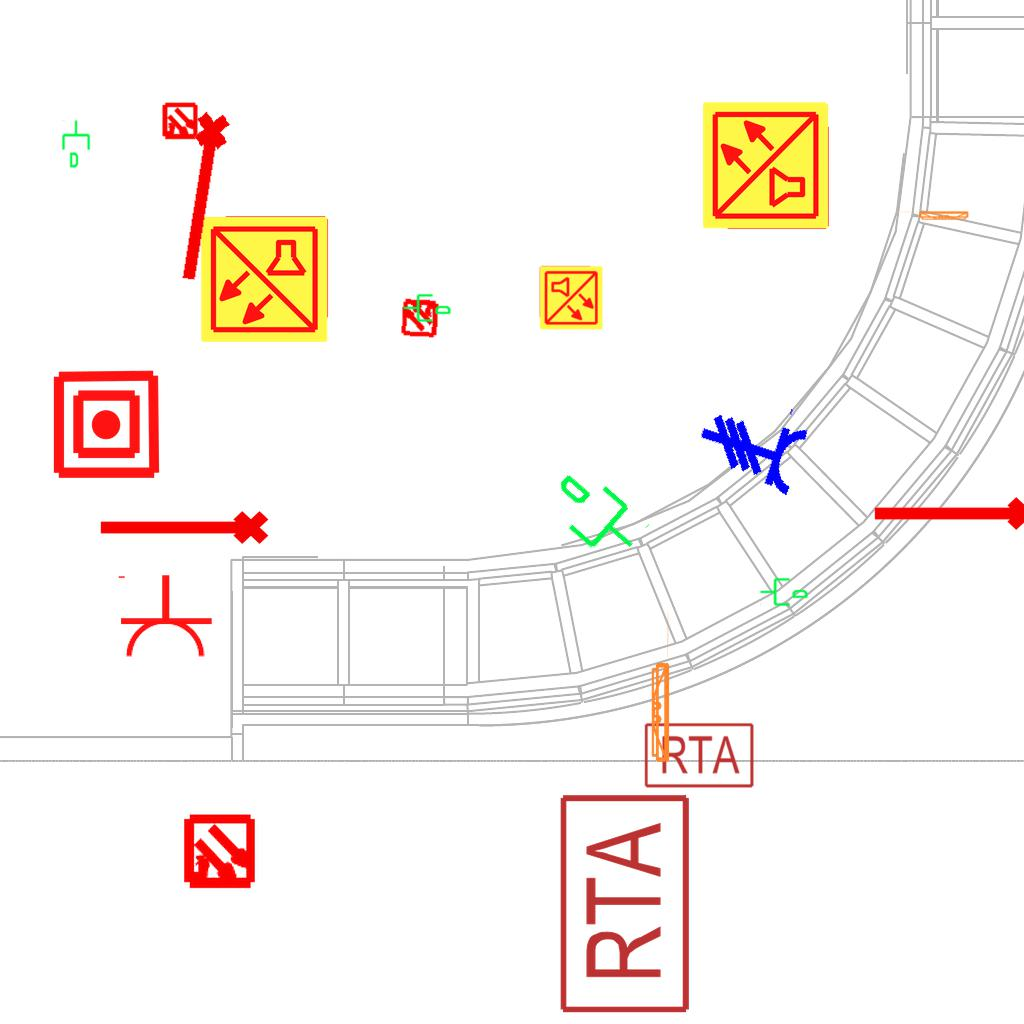ASR_Ansaugoeffnung: (167, 107, 241, 289), (95, 507, 271, 553), (869, 493, 1024, 539)
CEE_Drehstrom_Steckdose_16_32_A: (689, 381, 817, 499)
Datenanschluss_einfach: (534, 457, 655, 575), (60, 119, 94, 169), (759, 574, 809, 608), (402, 290, 452, 324)
NAM-Nichtautomatischer_Melder: (50, 368, 163, 481)
OKW_Multisensormelder_(Kombination_optischer_Rauch-Kahlenmonoxid_Waerme-Melder): (198, 213, 330, 345), (700, 99, 832, 231), (538, 265, 604, 331)
OT_Multisensormelder_(Kombination_RMO_WMD): (163, 797, 276, 910), (390, 287, 450, 347), (152, 94, 208, 150)
Ruf-und_Abstelltaster: (556, 792, 694, 1020), (641, 721, 755, 790)
Schukosteckdose_einfach: (114, 573, 214, 660)
Sicherheitsleuchte_Wandeinbau: (647, 608, 672, 767), (892, 210, 971, 222)
